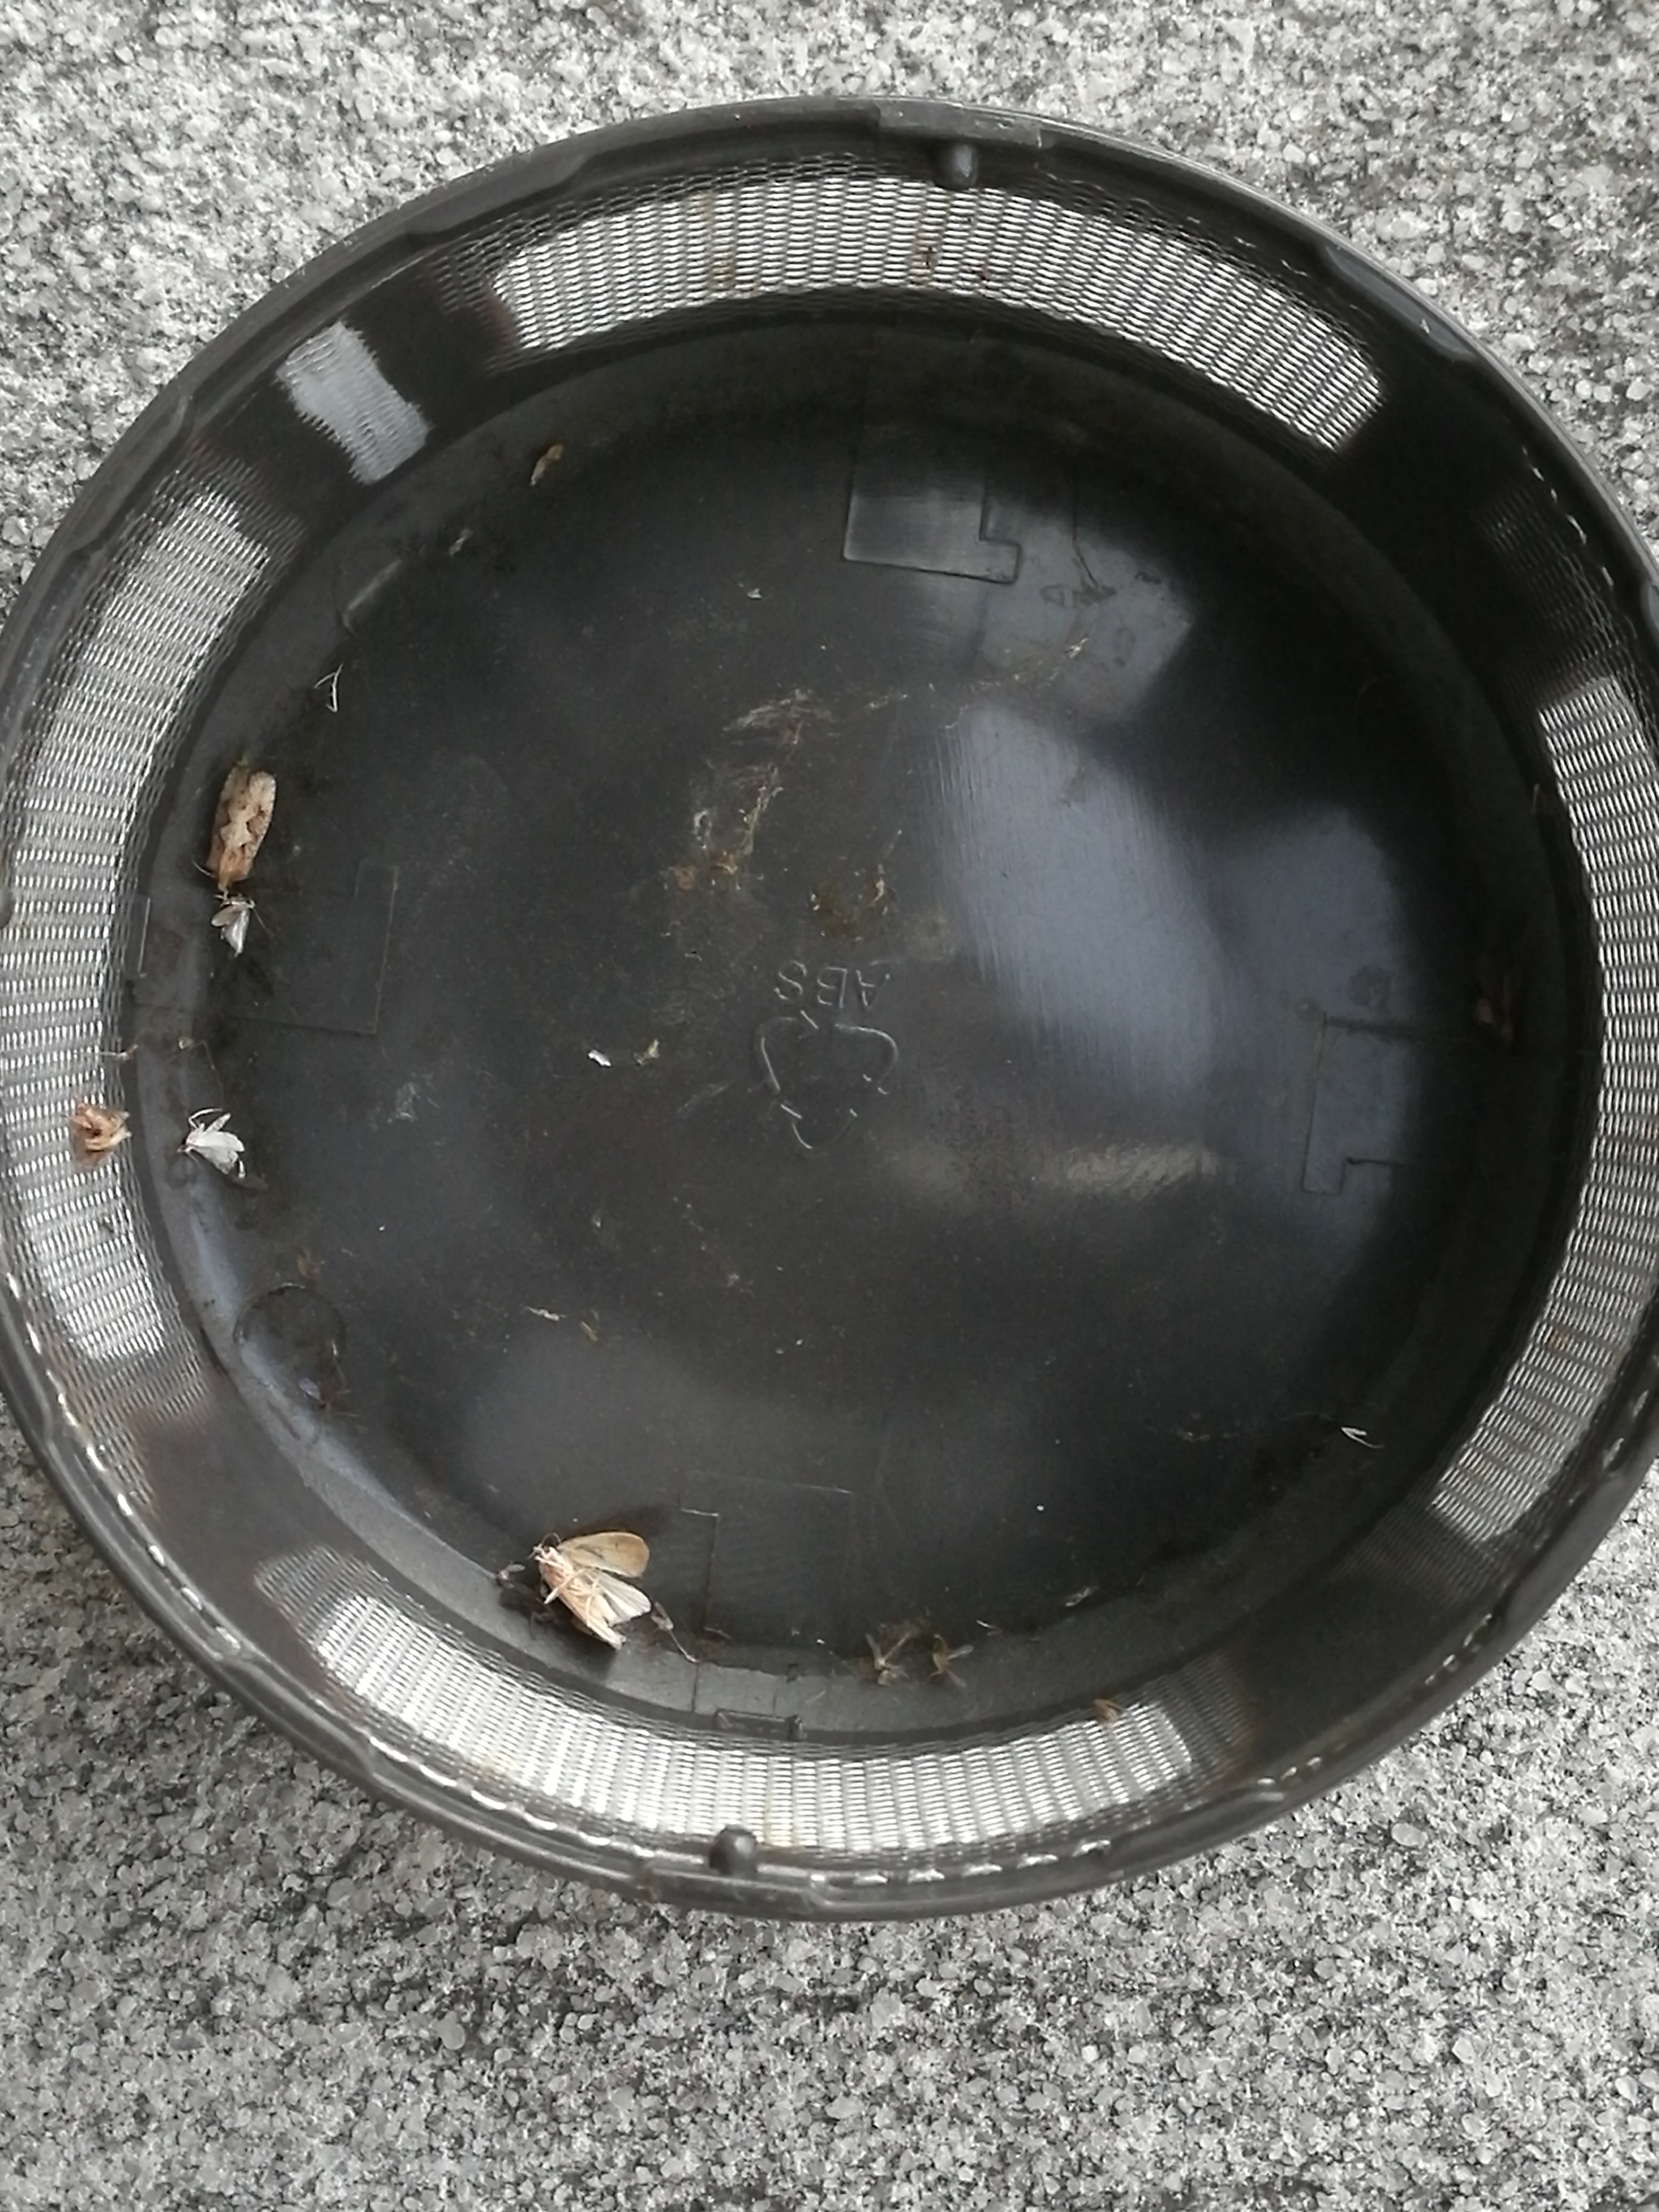moth: (532, 1533, 648, 1646), (209, 763, 277, 887), (1476, 953, 1523, 1052), (70, 1106, 127, 1167), (186, 1113, 242, 1174), (211, 894, 253, 953)
